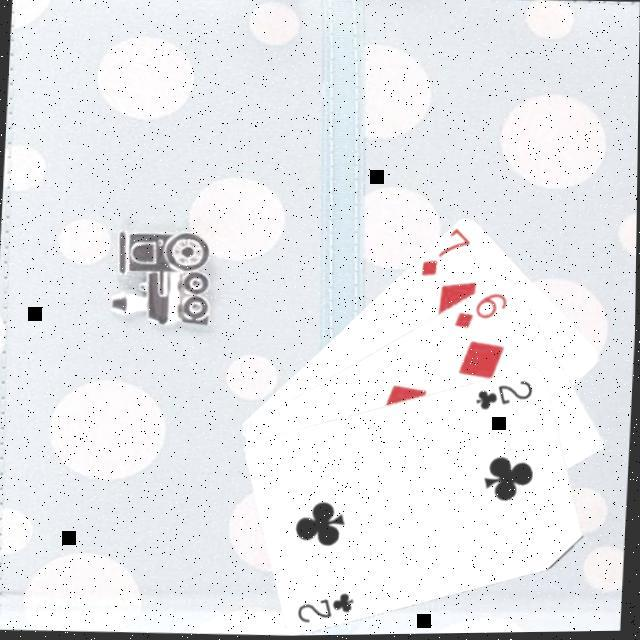2C: (471, 377, 535, 418), (294, 588, 356, 630)
6D: (450, 290, 510, 336)
7D: (416, 227, 472, 284)
